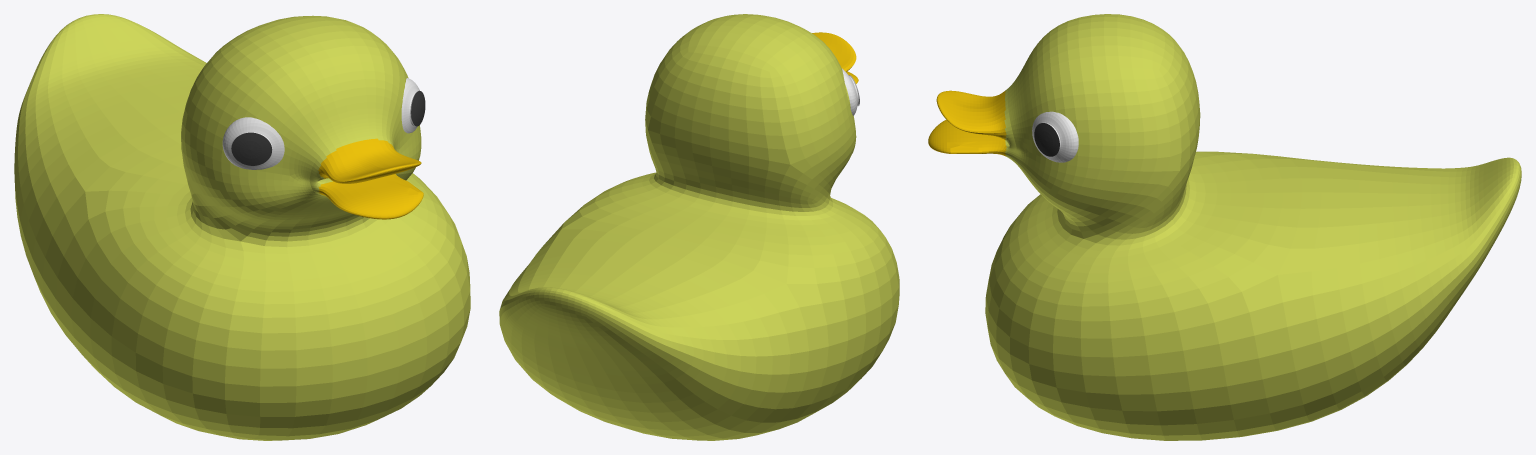
The model's file is wizard duck.fbx.
3 renders of one model, left to right at view 1: azimuth 30°, elevation 25°; view 2: azimuth 150°, elevation 25°; view 3: azimuth 270°, elevation 25°, orthographic. The views are drawn at different scales.
Parts seen in each view (by area): view 1: ducky:polySurface1; view 2: ducky:polySurface1; view 3: ducky:polySurface1.
Part boxes in pixels (x1,y1,x2,y2): ducky:polySurface1: (14,14,470,440); ducky:polySurface1: (499,14,899,440); ducky:polySurface1: (928,14,1521,440).
Size of what is drawn, in the model's own units: 258 by 292 by 409.
